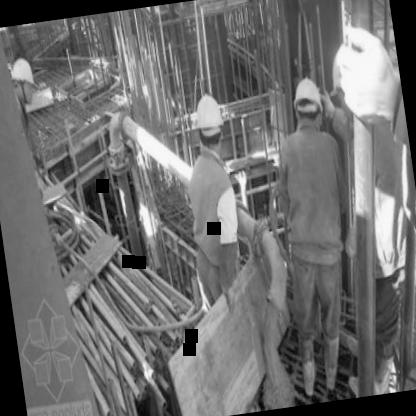helmet: (189, 86, 231, 160), (290, 73, 326, 130), (10, 51, 40, 106)
